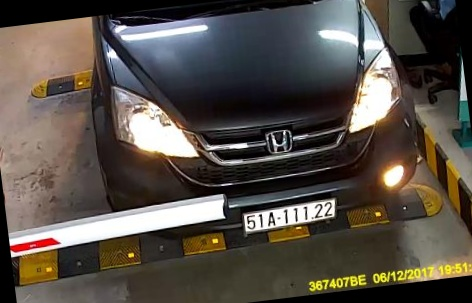plate: (233, 194, 356, 236)
